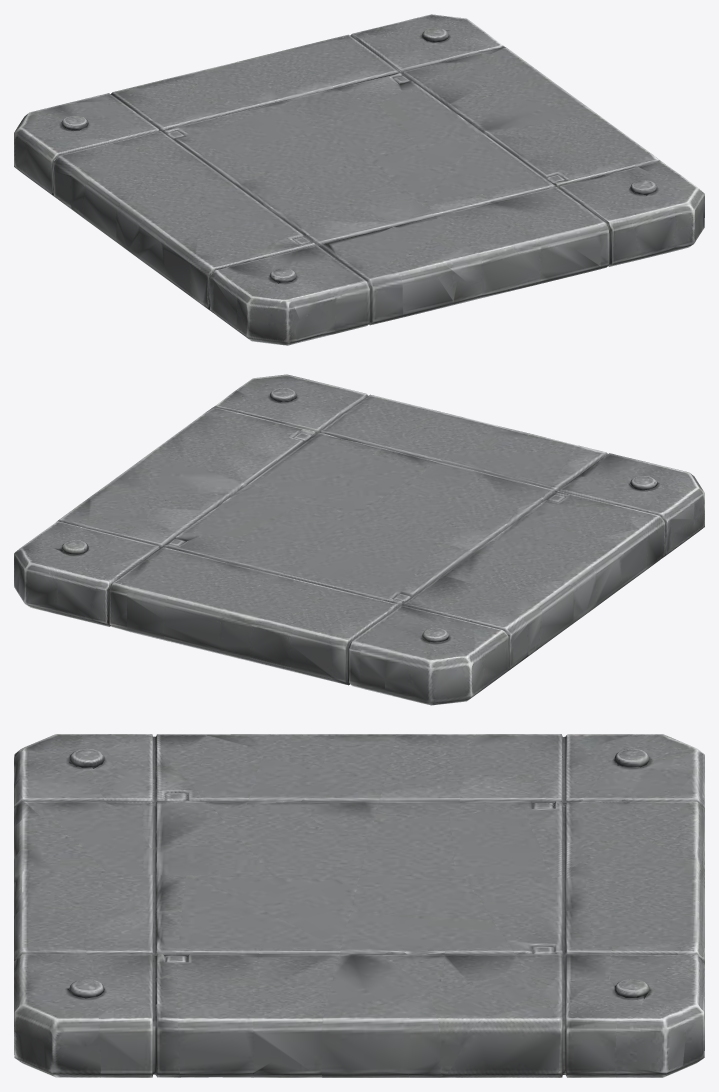
The model's file is armor_flat.glb.
3 views of the same model, one above another, from view 1: azimuth 30°, elevation 25°; view 2: azimuth 150°, elevation 25°; view 3: azimuth 270°, elevation 25° (orthographic). The views are drawn at different scales.
Parts seen in each view (by area): view 1: mesh_node; view 2: mesh_node; view 3: mesh_node.
Boxes of the visible parts, x1,y1,x2,y2 form: mesh_node: [14, 14, 704, 345]; mesh_node: [14, 374, 704, 705]; mesh_node: [14, 734, 704, 1077].
Bounding box in the file's own units: 1.9 × 0.2122 × 1.9.
1 material, 1 textured.
